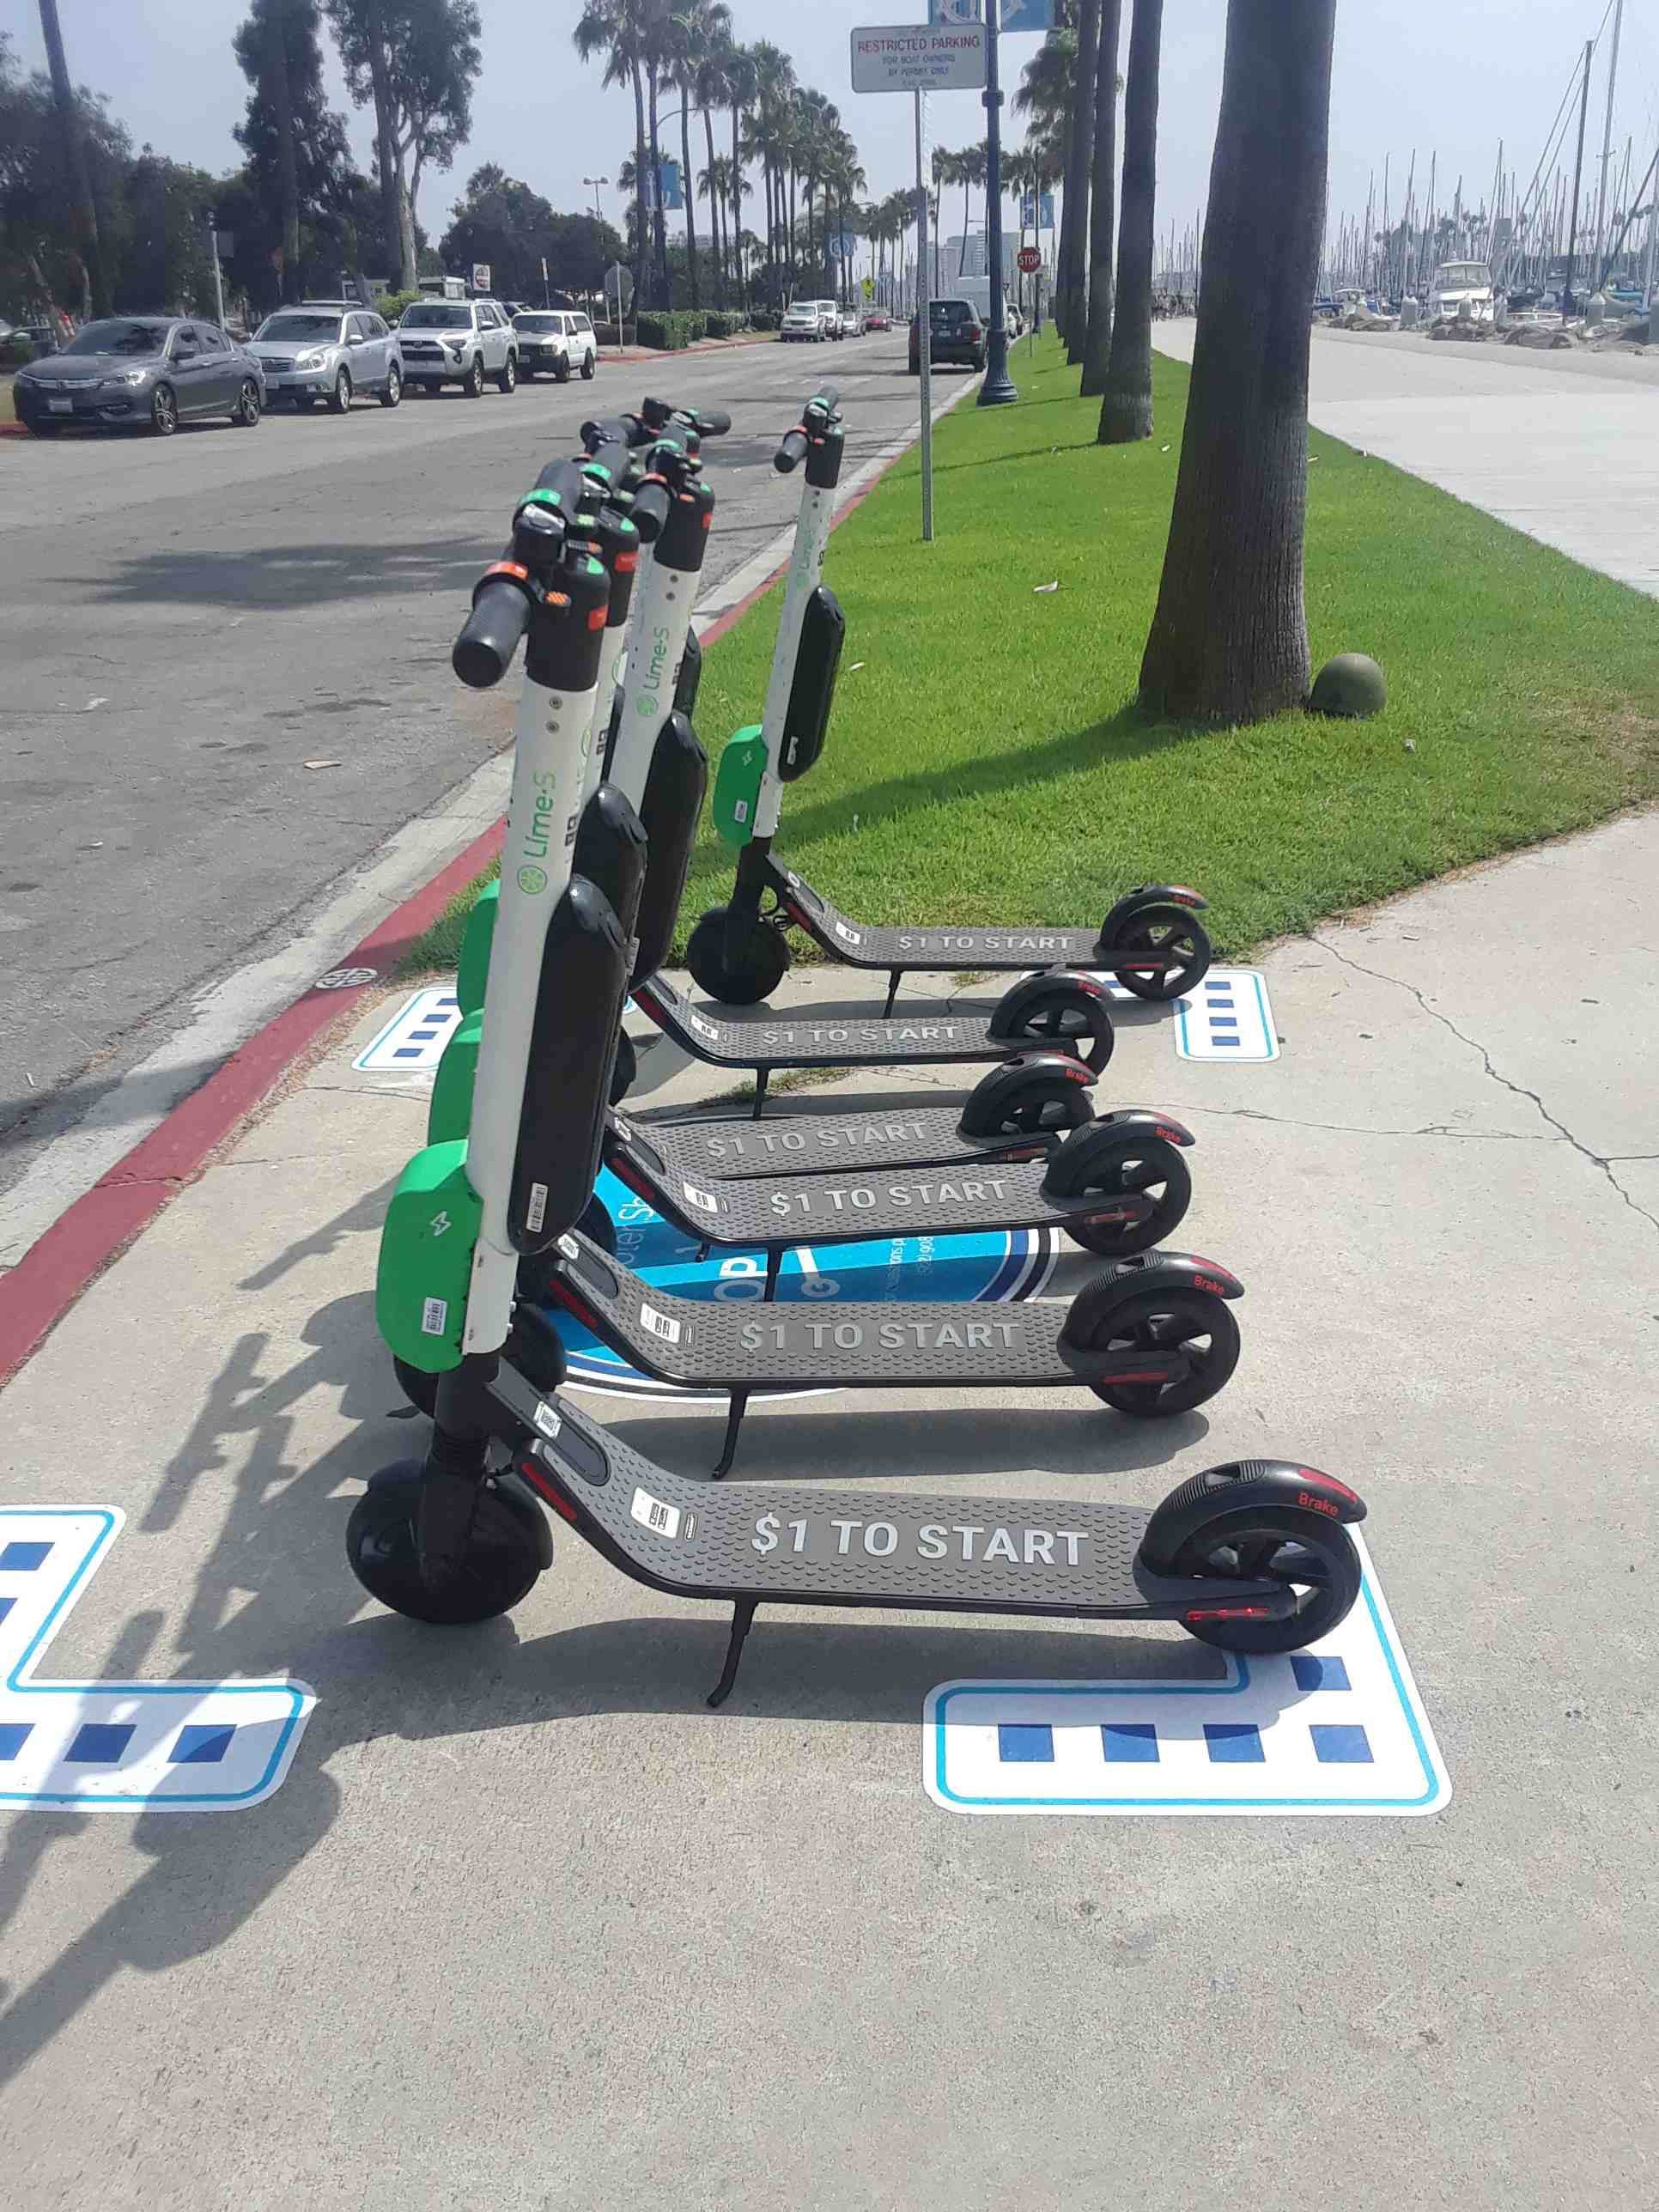scooter: (298, 448, 1342, 1712), (660, 343, 1230, 1087)
